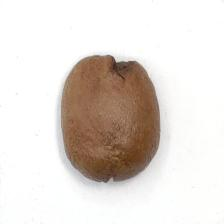NG: (97, 53, 141, 83)
